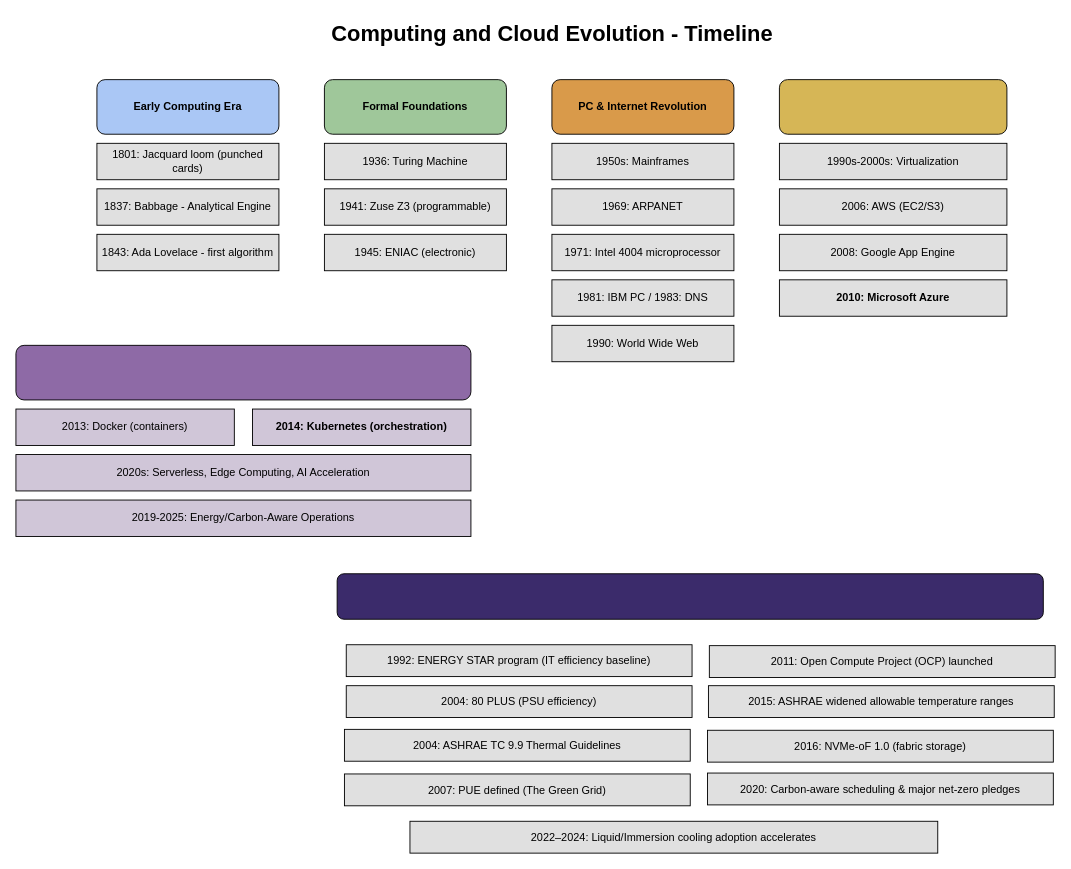
Some shapes in this 1071 by 869 pixel diagram are drawn without their labels. The shapes that lost their labels are listed below. From the top down, each one's centre as x and y in pixels, then its label:
point 893,106: Cloud Computing Era
point 243,372: Cloud-Native & Beyond
point 689,596: Energy & Sustainability Milestones
